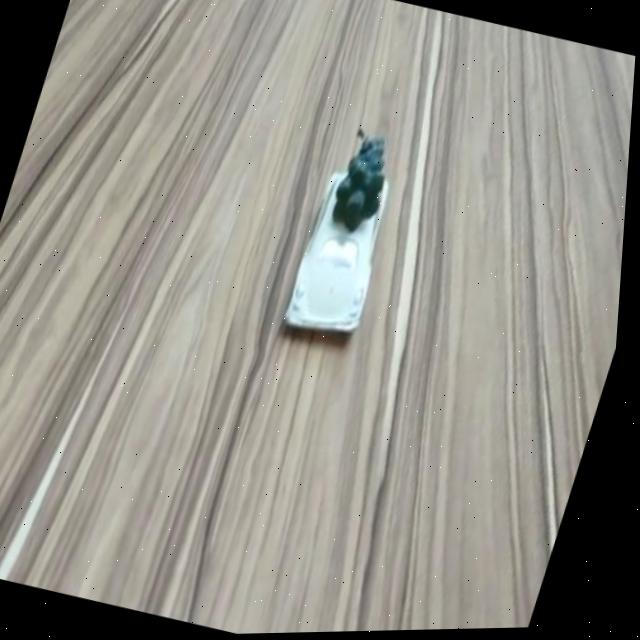vehicle: (281, 166, 407, 338)
